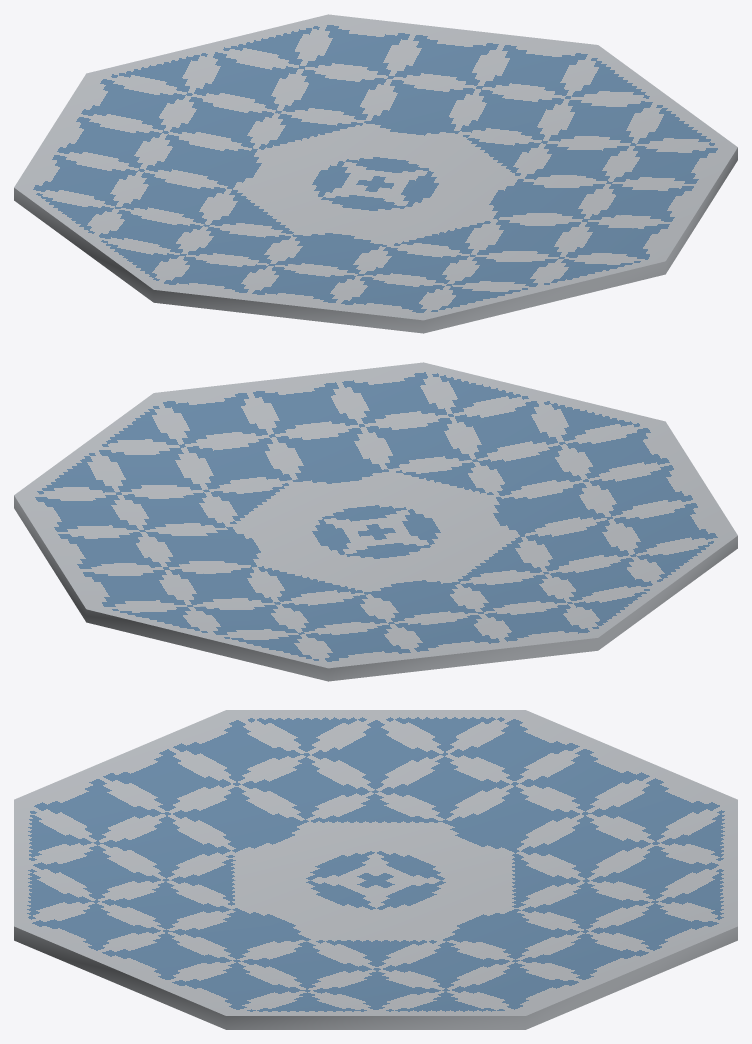
Rendered from 04bb_Plate.glb.
3 renders of one model, top to bottom at view 1: azimuth 30°, elevation 25°; view 2: azimuth 150°, elevation 25°; view 3: azimuth 270°, elevation 25°, orthographic. The views are drawn at different scales.
Parts seen in each view (by area): view 1: part_0; view 2: part_0; view 3: part_0.
Part boxes in pixels (left/top/right/bottom): part_0: left=14, top=14, right=737, bottom=333; part_0: left=14, top=362, right=737, bottom=681; part_0: left=14, top=710, right=737, bottom=1029.
Size of the model in its own units: 0.2927 by 0.0257 by 0.2927.
1 material, 1 textured.
